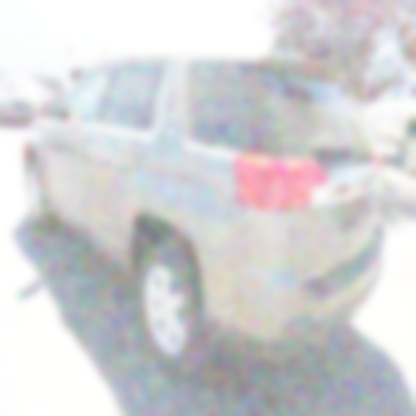Vehicle: (25, 47, 387, 380)
